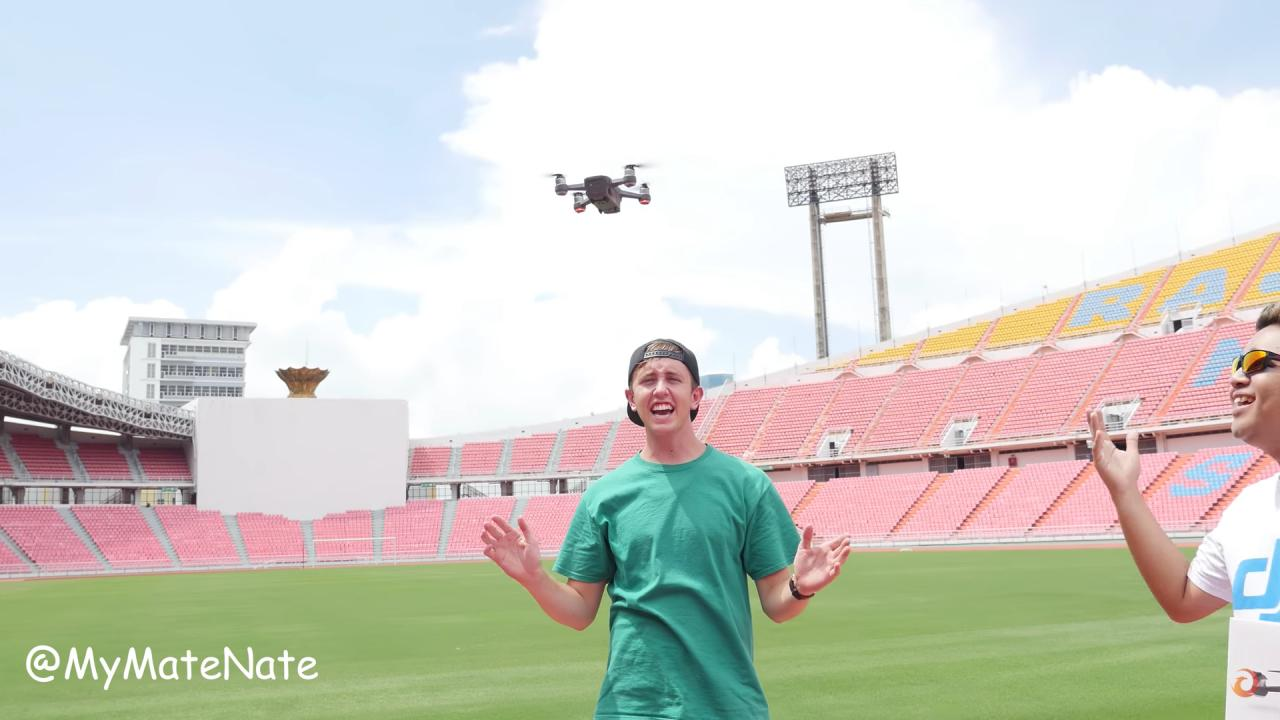Drone: (534, 147, 670, 230)
